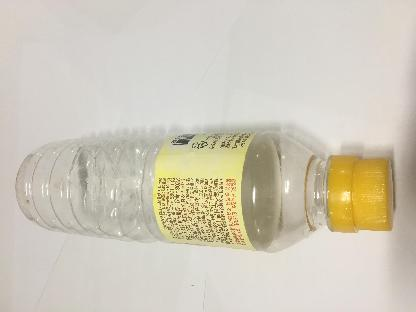Plastic Bottle: (15, 131, 394, 253)
